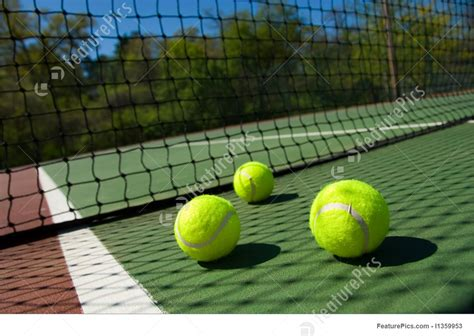tennis_ball: (308, 179, 390, 258), (173, 194, 241, 262), (232, 161, 274, 203)
